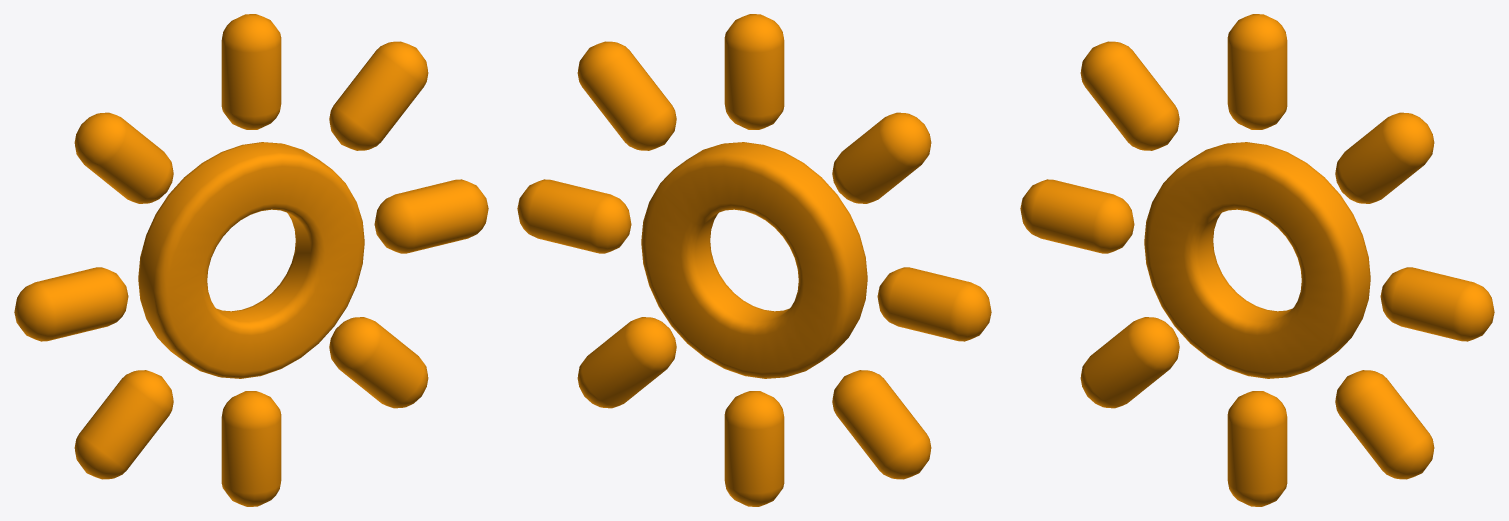
Rendered from bright_button.gltf.
3 views of the same model, side by side, from view 1: azimuth 30°, elevation 25°; view 2: azimuth 150°, elevation 25°; view 3: azimuth 330°, elevation 25° (orthographic).
Visible parts, largest first — view 1: Circle.2633; view 2: Circle.2633; view 3: Circle.2633.
Boxes of the visible parts, x1=… form: Circle.2633: x1=14, y1=14, x2=488, y2=506; Circle.2633: x1=517, y1=14, x2=991, y2=506; Circle.2633: x1=1020, y1=14, x2=1494, y2=506.
Bounding box in the file's own units: 2.24 × 2.24 × 0.2505.
1 material, 1 textured.
